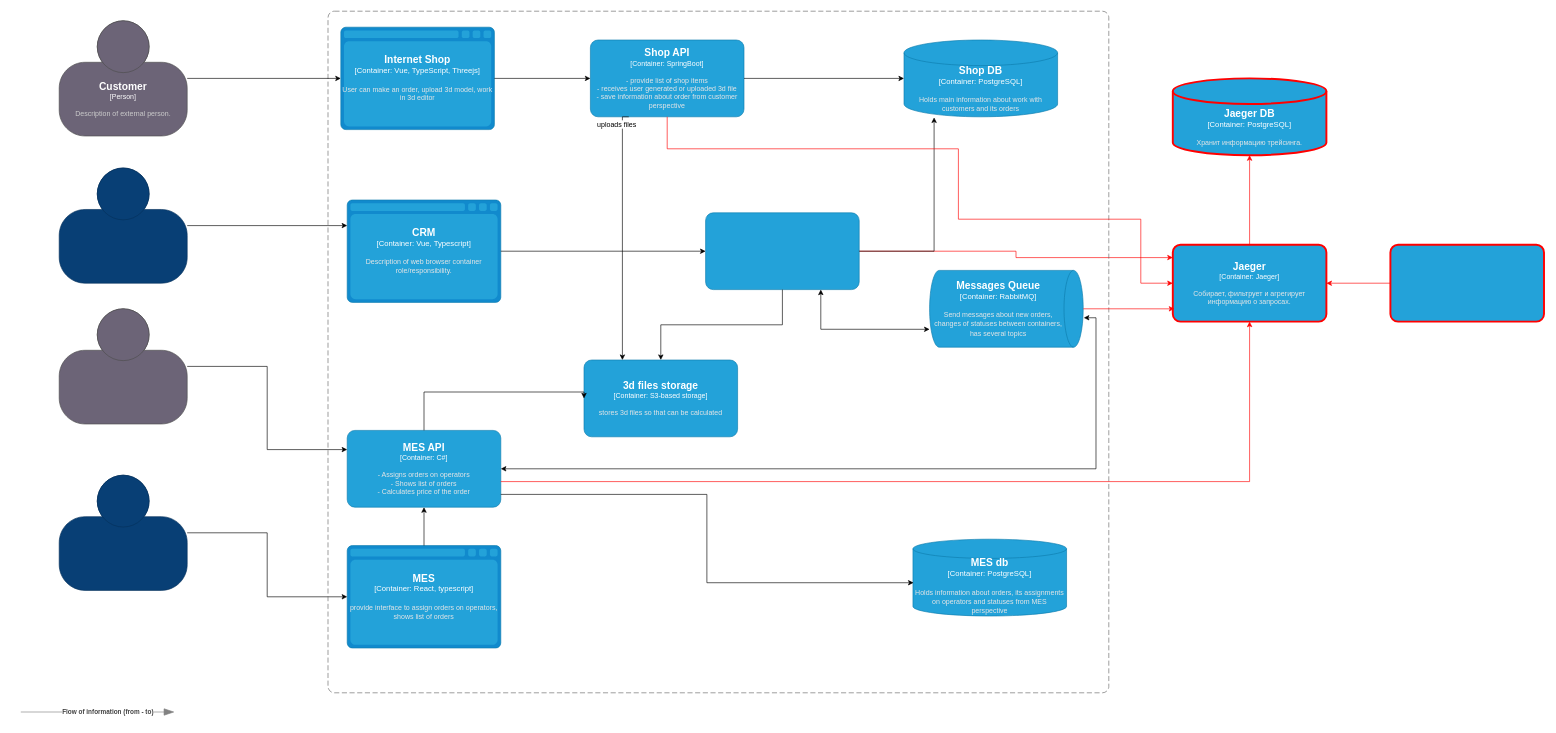
The diagram is 1556 pixels wide and 733 high, and some of its shapes have lost their labels. The box of each missing label's shape, as (x1, y1, x2, y2) in pixels:
API user [Person] Description of external person.: (59, 308, 187, 424)
CRM API [Container: SpringBoot] Description of container role/responsibility.: (705, 212, 859, 290)
Jaeger UI [Container: Jaeger] Интерфейс для просмотра данных трейсинга.: (1389, 244, 1545, 322)
Jewerly Store System [Software System]: (327, 11, 1109, 693)
Operator [Person] Takes order in work, manufactures jewerly: (59, 475, 187, 590)
Seller [Person] Operates with order, confirms manufacturing for the user: (59, 167, 187, 283)
